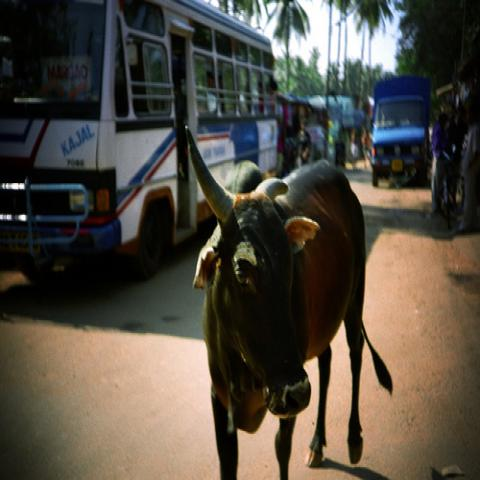bus: (1, 0, 279, 293)
truck: (371, 76, 430, 188)
